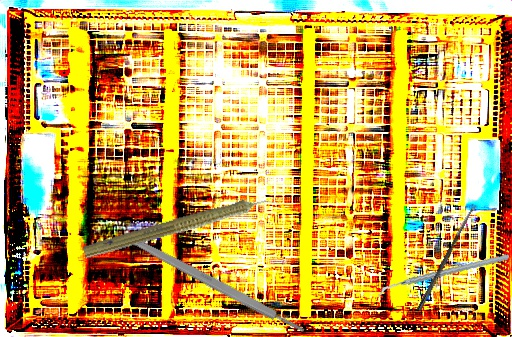Chopper: (377, 234, 510, 317)
Handpiece: (81, 187, 284, 267)
Scalpel Handle: (133, 237, 307, 336)
Surgical Spoon: (416, 203, 478, 312)
